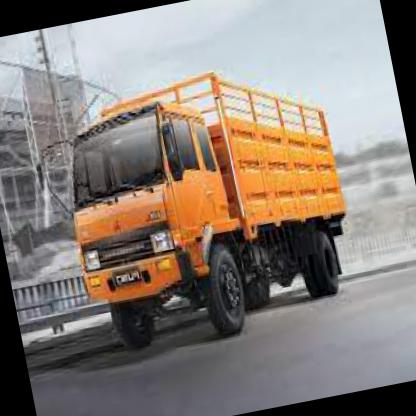truck: (54, 93, 255, 364)
